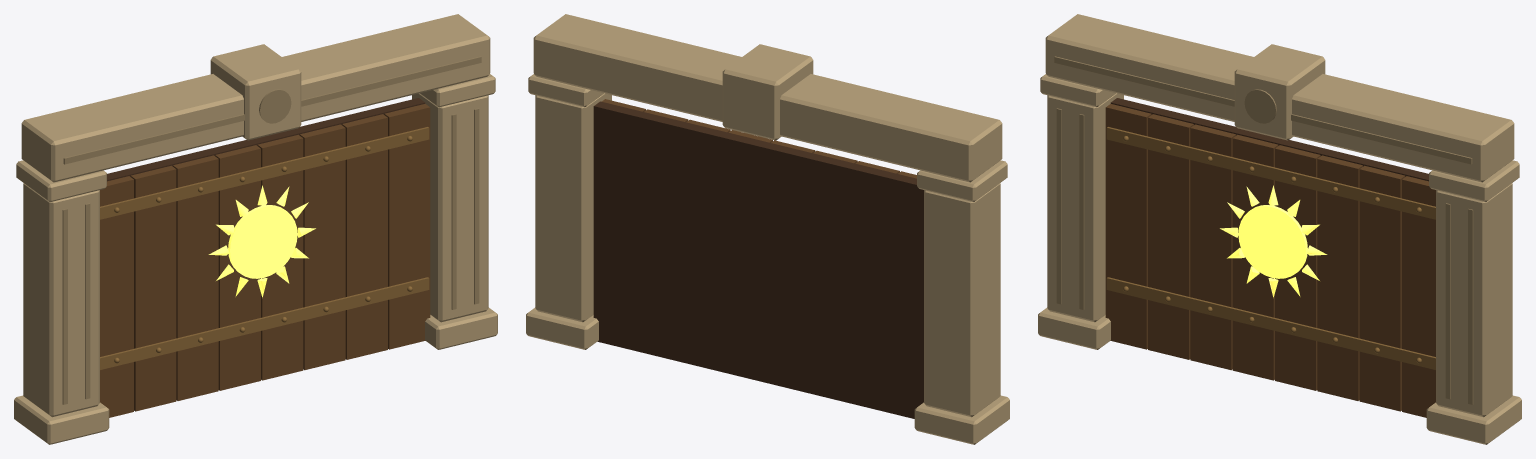
The model's file is shrine-gate.gltf.
3 renders of one model, left to right at view 1: azimuth 30°, elevation 25°; view 2: azimuth 150°, elevation 25°; view 3: azimuth 330°, elevation 25°, orthographic.
Visible parts, largest first — view 1: Mesh_DoorPlank1, Mesh_PlinthLeft, Mesh_DoorBandLow, Mesh_GrooveLeftA, Mesh_DoorSun, Mesh_DoorBacking; view 2: Mesh_DoorBacking, Mesh_PlinthLeft, Mesh_DoorPlank1; view 3: Mesh_DoorPlank1, Mesh_PlinthLeft, Mesh_DoorBandLow, Mesh_GrooveLeftA, Mesh_DoorSun, Mesh_DoorBacking.
Boxes of the visible parts, x1,y1,x2,y2 form: Mesh_DoorPlank1: (100, 104, 430, 417); Mesh_PlinthLeft: (14, 14, 497, 444); Mesh_DoorBandLow: (100, 127, 429, 369); Mesh_GrooveLeftA: (62, 56, 481, 404); Mesh_DoorSun: (208, 185, 315, 297); Mesh_DoorBacking: (107, 98, 425, 181); Mesh_DoorBacking: (593, 101, 923, 418); Mesh_PlinthLeft: (526, 14, 1009, 444); Mesh_DoorPlank1: (602, 99, 916, 178); Mesh_DoorPlank1: (1105, 104, 1435, 417); Mesh_PlinthLeft: (1038, 14, 1521, 444); Mesh_DoorBandLow: (1106, 127, 1435, 369); Mesh_GrooveLeftA: (1054, 56, 1473, 404); Mesh_DoorSun: (1220, 185, 1327, 297); Mesh_DoorBacking: (1110, 98, 1428, 181).
Size of the model in its own units: 8 by 5.35 by 1.18.
